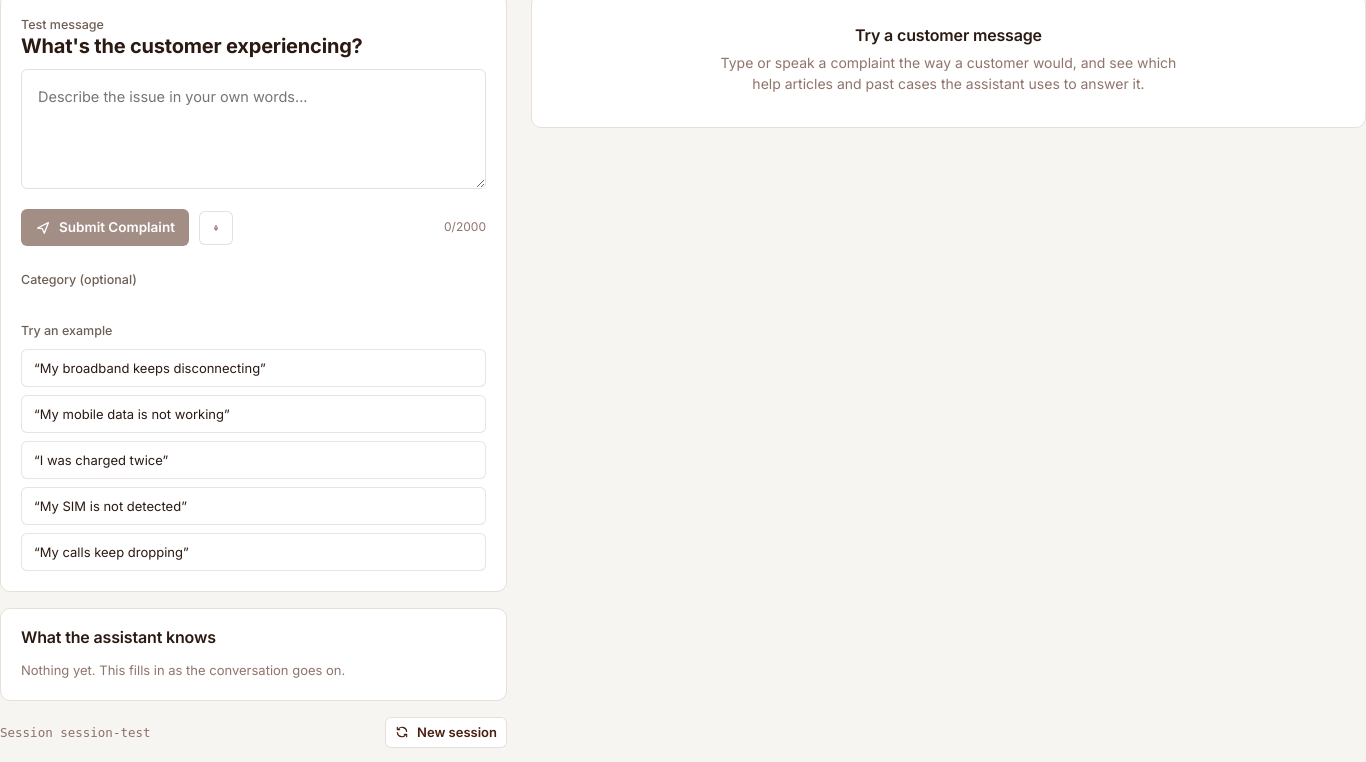
Scenario: Support resolution flow (frontend E2E with mocked API) › submits a complaint and displays analysis, evidence, resolution and citations
Type "My broadband drops every evening around 8 PM and I already restarted the router twice." into the text box with placeholder "Describe the issue in your own words..." at (254,129), box [21,69,486,189]
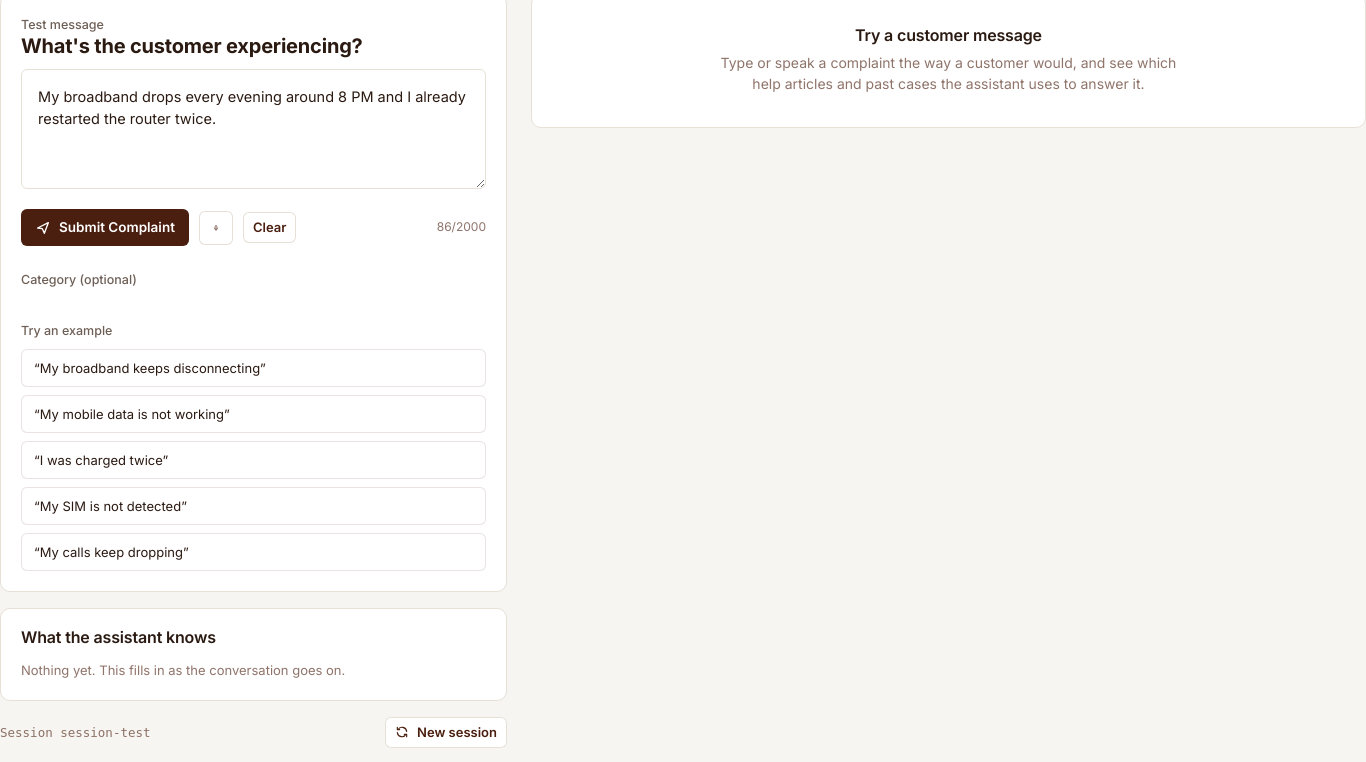
Click the button "Submit Complaint" at (105,228), box [21,209,189,246]
(page scrolled)
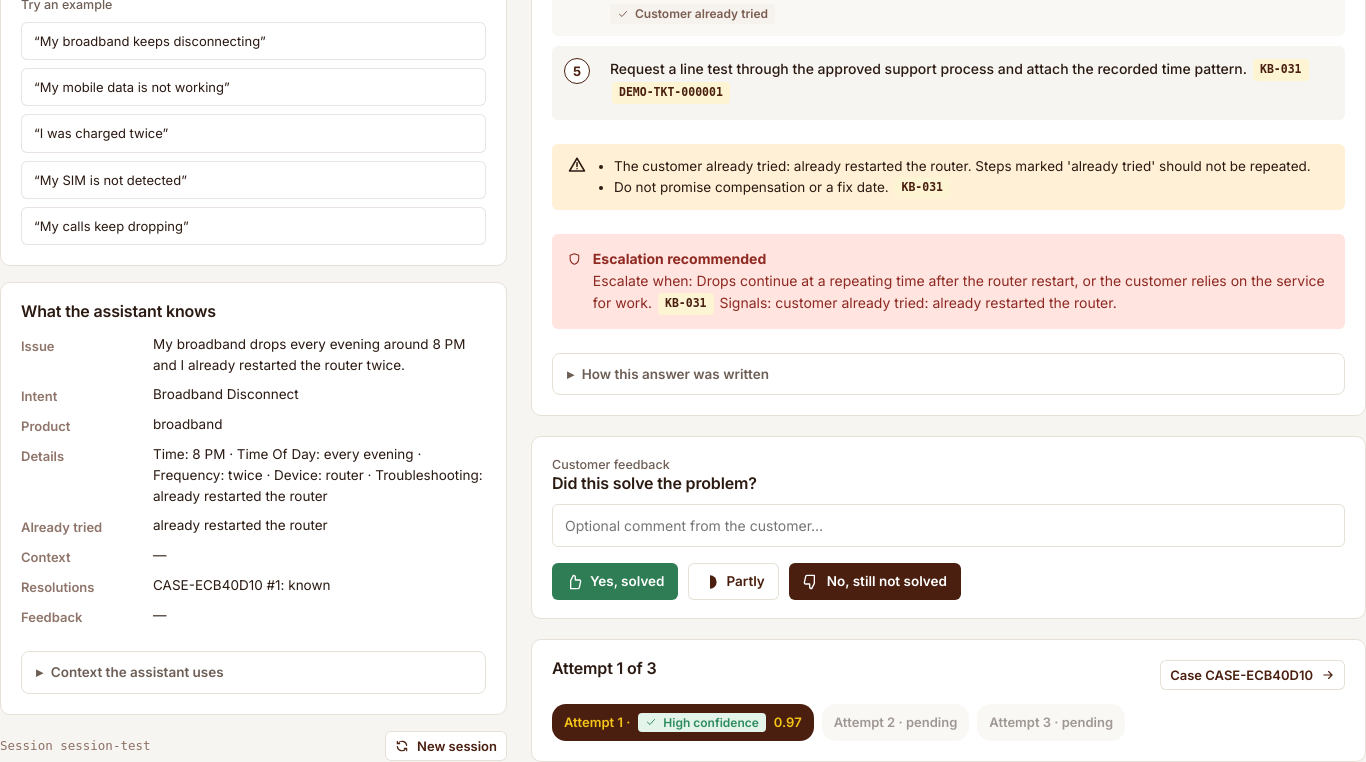
Expected: the text "Broadband Disconnect" is shown, [153,386,299,402]
Expected: the heading "Did this solve the problem?" is shown, [552,473,757,493]
